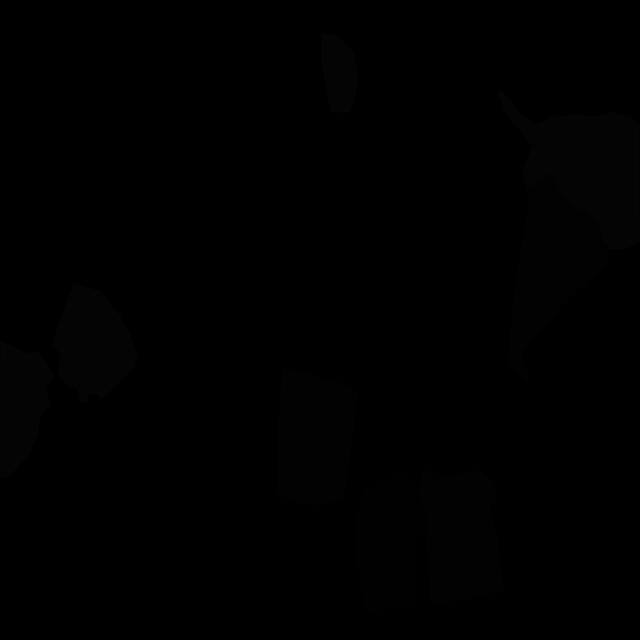cardboard: (507, 173, 608, 383), (418, 468, 504, 605), (276, 367, 358, 506)
rigid_plastic: (354, 465, 426, 614)
soft_plastic: (498, 89, 640, 250), (52, 283, 137, 403), (0, 340, 54, 477), (321, 32, 358, 113)
